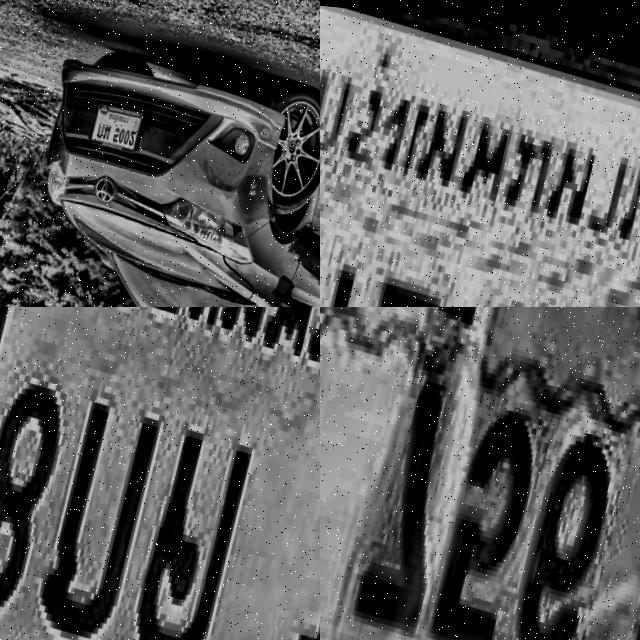license-plate: (0, 307, 320, 640), (320, 307, 640, 640), (320, 0, 640, 307), (81, 85, 152, 157)
